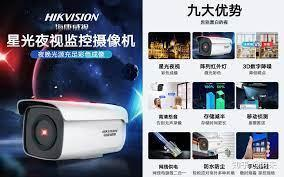tutu: (17, 99, 128, 159)
